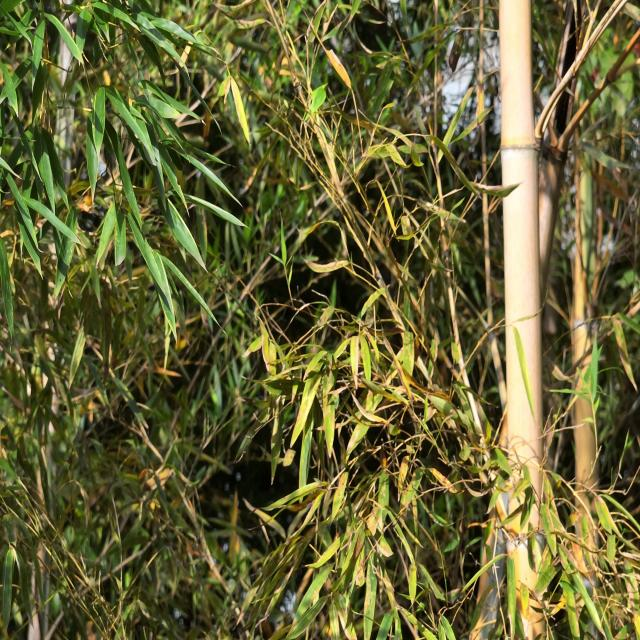Bamboo-shoots: (498, 0, 544, 640)
